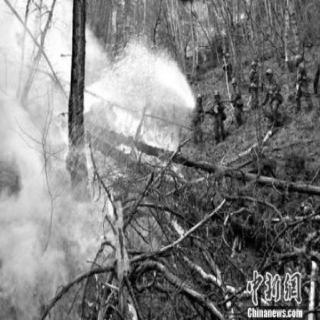Fire: (101, 185, 117, 223)
